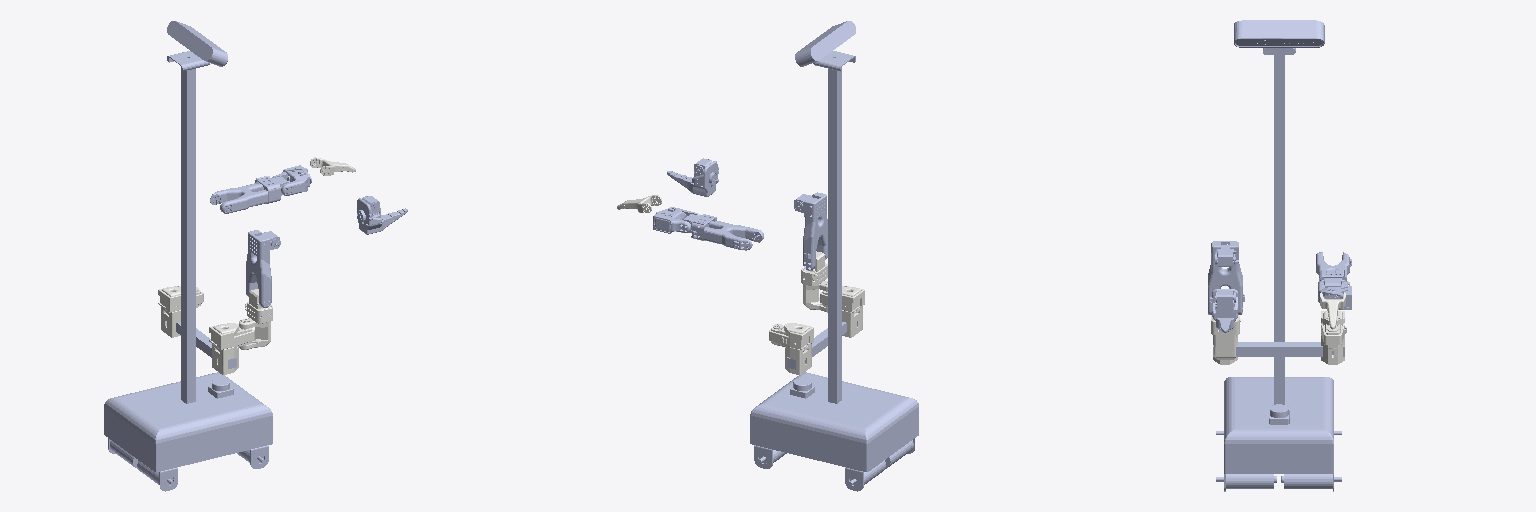
--- What the picture shows (computed from the rendered views, not written in the file) ---
3 views of the same robot in one strip: view 1: azimuth 30°, elevation 25°; view 2: azimuth 150°, elevation 25°; view 3: azimuth 270°, elevation 25° (orthographic).
Model hsr1_description with 25 links and 24 joints (12 revolute, 4 continuous, 1 prismatic, 7 fixed), rooted at base_footprint, posed all joints at 0.
Links seen in each view (by area): view 1: base_link, right_arm_upper, camera_link, left_arm_lower, right_arm_base, right_arm_shoulder, right_arm_gripper, left_arm_base, left_arm_wrist; view 2: base_link, right_arm_upper, camera_link, left_arm_lower, left_arm_base, right_arm_base, right_arm_gripper, right_arm_shoulder, left_arm_wrist; view 3: base_link, camera_link, right_arm_upper, lift_link, left_arm_base, right_arm_gripper, left_arm_lower, right_arm_shoulder.
Link boxes in pixels (<box>): base_link: <box>104,69,272,491</box>; right_arm_upper: <box>246,230,280,307</box>; camera_link: <box>167,21,227,71</box>; left_arm_lower: <box>210,176,288,213</box>; right_arm_base: <box>209,323,254,374</box>; right_arm_shoulder: <box>239,289,272,349</box>; right_arm_gripper: <box>357,196,407,234</box>; left_arm_base: <box>158,286,203,337</box>; left_arm_wrist: <box>272,165,311,195</box>; base_link: <box>750,69,918,491</box>; right_arm_upper: <box>794,192,827,270</box>; camera_link: <box>795,21,855,71</box>; left_arm_lower: <box>683,214,763,250</box>; left_arm_base: <box>769,323,813,374</box>; right_arm_base: <box>820,286,864,337</box>; right_arm_gripper: <box>667,158,718,196</box>; right_arm_shoulder: <box>801,251,827,312</box>; left_arm_wrist: <box>653,207,700,233</box>; base_link: <box>1216,55,1341,491</box>; camera_link: <box>1234,20,1324,54</box>; right_arm_upper: <box>1208,241,1244,314</box>; lift_link: <box>1213,342,1344,356</box>; left_arm_base: <box>1321,311,1346,364</box>; right_arm_gripper: <box>1210,289,1237,332</box>; left_arm_lower: <box>1316,252,1351,288</box>; right_arm_shoulder: <box>1211,315,1240,359</box>.
Bounding box of the posed robot: 0.5572 × 0.2623 × 0.8967 m (x, y, z).
Meshes: 22 distinct files referenced, 12 mesh visuals loaded (12 binary STL); not drawn: 10 (reference not matched to a file when rendering).

The robot description file, URDF, robot "hsr1_description":
<?xml version="1.0" encoding="utf-8" ?>
<!-- This URDF was automatically created by SolidWorks to URDF Exporter! Originally created by Stephen Brawner ([email redacted]) 
     Commit Version: 1.6.0-4-g7f85cfe  Build Version: 1.6.7995.38578
     For more information, please see http://wiki.ros.org/sw_urdf_exporter -->
<robot name="hsr1_description">
    <link name="base_footprint" />
    <joint name="base_footprint_joint" type="fixed">
        <origin xyz="0 0 0.07" rpy="0 0 0" />
        <parent link="base_footprint" />
        <child link="base_link" />
    </joint>
    <link name="base_link">
        <inertial>
            <origin xyz="-2.77555756156289E-17 -5.55111512312578E-17 0.056835338512976" rpy="0 0 0" />
            <mass value="4.80714032791377" />
            <inertia ixx="0.0315403305634354" ixy="-4.69442092614301E-10" ixz="1.62478147637776E-18" iyy="0.0406916810158976" iyz="1.77867391243081E-18" izz="0.0365902052108465" />
        </inertial>
        <visual>
            <origin xyz="0 0 0" rpy="0 0 0" />
            <geometry>
                <mesh filename="package://hsr1_description/meshes/base_link.STL" />
            </geometry>
            <material name="">
                <color rgba="0.792156862745098 0.819607843137255 0.933333333333333 1" />
            </material>
        </visual>
        <collision>
            <origin xyz="0 0 0" rpy="0 0 0" />
            <geometry>
                <mesh filename="package://hsr1_description/meshes/base_link.STL" />
            </geometry>
        </collision>
    </link>
    <link name="front_left_wheel">
        <inertial>
            <origin xyz="-0.0763418944822859 0.128269969958949 0.143889225615351" rpy="0 0 0" />
            <mass value="5.89180566156079" />
            <inertia ixx="0.150804791351794" ixy="-0.0384666411475966" ixz="0.00969175864752925" iyy="0.0786720632513838" iyz="0.0157573818855328" izz="0.180861396100893" />
        </inertial>
        <visual>
            <origin xyz="0 0 0" rpy="0 0 0" />
            <geometry>
                <mesh filename="package://hsr1_description/meshes/front_left_wheel.STL" />
            </geometry>
            <material name="">
                <color rgba="0.792156862745098 0.819607843137255 0.933333333333333 1" />
            </material>
        </visual>
        <collision>
            <origin xyz="0 0 0" rpy="0 0 0" />
            <geometry>
                <mesh filename="package://hsr1_description/meshes/front_left_wheel.STL" />
            </geometry>
        </collision>
    </link>
    <joint name="front_left_wheel_joint" type="continuous">
        <origin xyz="0.0999999999999999 0.152710797871441 -0.0245" rpy="1.5707963267949 0 0" />
        <parent link="base_link" />
        <child link="front_left_wheel" />
        <axis xyz="0 0 1" />
    </joint>
    <link name="front_right_wheel">
        <inertial>
            <origin xyz="0.0495086361339399 0.14081961864233 0.108146393398426" rpy="0 0 0" />
            <mass value="5.89180566156079" />
            <inertia ixx="0.133098775842571" ixy="0.0494303823415677" ixz="0.0126125790573082" iyy="0.0963780787606072" iyz="-0.01353322279029" izz="0.180861396100893" />
        </inertial>
        <visual>
            <origin xyz="0 0 0" rpy="0 0 0" />
            <geometry>
                <mesh filename="package://hsr1_description/meshes/front_right_wheel.STL" />
            </geometry>
            <material name="">
                <color rgba="0.792156862745098 0.819607843137255 0.933333333333333 1" />
            </material>
        </visual>
        <collision>
            <origin xyz="0 0 0" rpy="0 0 0" />
            <geometry>
                <mesh filename="package://hsr1_description/meshes/front_right_wheel.STL" />
            </geometry>
        </collision>
    </link>
    <joint name="front_right_wheel_joint" type="continuous">
        <origin xyz="0.1 -0.0993248211423353 -0.0244999999999999" rpy="1.5707963267949 0.198780218489868 -3.14159265358979" />
        <parent link="base_link" />
        <child link="front_right_wheel" />
        <axis xyz="0 0 1" />
    </joint>
    <link name="rear_left_wheel">
        <inertial>
            <origin xyz="0.123658105517714 0.128269969958949 0.143889225615353" rpy="0 0 0" />
            <mass value="5.89180566156079" />
            <inertia ixx="0.150804791351794" ixy="-0.0384666411475966" ixz="0.00969175864752925" iyy="0.0786720632513838" iyz="0.0157573818855328" izz="0.180861396100893" />
        </inertial>
        <visual>
            <origin xyz="0 0 0" rpy="0 0 0" />
            <geometry>
                <mesh filename="package://hsr1_description/meshes/rear_left_wheel.STL" />
            </geometry>
            <material name="">
                <color rgba="0.792156862745098 0.819607843137255 0.933333333333333 1" />
            </material>
        </visual>
        <collision>
            <origin xyz="0 0 0" rpy="0 0 0" />
            <geometry>
                <mesh filename="package://hsr1_description/meshes/rear_left_wheel.STL" />
            </geometry>
        </collision>
    </link>
    <joint name="rear_left_wheel_joint" type="continuous">
        <origin xyz="-0.1 0.152710797871443 -0.0245" rpy="1.5707963267949 0 0" />
        <parent link="base_link" />
        <child link="rear_left_wheel" />
        <axis xyz="0 0 1" />
    </joint>
    <link name="rear_right_wheel">
        <inertial>
            <origin xyz="-0.116599820212038 0.13471820285329 0.108146393398426" rpy="0 0 0" />
            <mass value="5.89180566156079" />
            <inertia ixx="0.154717935398889" ixy="0.0343817397651401" ixz="0.00883259692590424" iyy="0.0747589192042888" iyz="-0.0162545532424912" izz="0.180861396100893" />
        </inertial>
        <visual>
            <origin xyz="0 0 0" rpy="0 0 0" />
            <geometry>
                <mesh filename="package://hsr1_description/meshes/rear_right_wheel.STL" />
            </geometry>
            <material name="">
                <color rgba="0.792156862745098 0.819607843137255 0.933333333333333 1" />
            </material>
        </visual>
        <collision>
            <origin xyz="0 0 0" rpy="0 0 0" />
            <geometry>
                <mesh filename="package://hsr1_description/meshes/rear_right_wheel.STL" />
            </geometry>
        </collision>
    </link>
    <joint name="rear_right_wheel_joint" type="continuous">
        <origin xyz="-0.1 -0.0993248211423355 -0.0245" rpy="1.5707963267949 -0.0536647045298634 3.14159265358979" />
        <parent link="base_link" />
        <child link="rear_right_wheel" />
        <axis xyz="0 0 1" />
    </joint>
    <link name="lift_link">
        <inertial>
            <origin xyz="-6.38378239159465E-16 0.12 -0.0469405574076666" rpy="0 0 0" />
            <mass value="0.0959999999999999" />
            <inertia ixx="0.000464" ixy="-1.45598033401142E-20" ixz="-1.58779739552214E-23" iyy="6.39999999999998E-06" iyz="5.01185043746506E-20" izz="0.000464" />
        </inertial>
        <visual>
            <origin xyz="0 0 0" rpy="0 0 0" />
            <geometry>
                <mesh filename="package://hsr1_description/meshes/lift_link.STL" />
            </geometry>
            <material name="">
                <color rgba="0.792156862745098 0.819607843137255 0.933333333333333 1" />
            </material>
        </visual>
        <collision>
            <origin xyz="0 0 0" rpy="0 0 0" />
            <geometry>
                <mesh filename="package://hsr1_description/meshes/lift_link.STL" />
            </geometry>
        </collision>
    </link>
    <joint name="lift_joint" type="prismatic">
        <origin xyz="0.0270000000000006 0.12 0.154287208125814" rpy="3.14159265358979 0 0" />
        <parent link="base_link" />
        <child link="lift_link" />
        <axis xyz="0 0 -1" />
        <limit lower="0" upper="0.6" effort="0" velocity="0" />
    </joint>
    <link name="left_arm_base">
        <inertial>
            <origin xyz="-8.54066416982185E-05 0.0715841884981663 0.0115769886650849" rpy="0 0 0" />
            <mass value="0.140242935548136" />
            <inertia ixx="9.65161924913219E-05" ixy="-6.86201774765616E-09" ixz="-4.87380639258575E-07" iyy="5.45414092945246E-05" iyz="1.41448489167764E-06" izz="8.35072089564167E-05" />
        </inertial>
        <visual>
            <origin xyz="0 0 0" rpy="0 0 0" />
            <geometry>
                <mesh filename="package://hsr1_description/meshes/left_arm_base.STL" />
            </geometry>
            <material name="">
                <color rgba="0.964705882352941 0.964705882352941 0.952941176470588 1" />
            </material>
        </visual>
        <collision>
            <origin xyz="0 0 0" rpy="0 0 0" />
            <geometry>
                <mesh filename="package://hsr1_description/meshes/left_arm_base.STL" />
            </geometry>
        </collision>
    </link>
    <joint name="left_arm_base_joint" type="fixed">
        <origin xyz="-0.0040000003016688 0.0223499999999999 -0.00582771867673026" rpy="-1.5707963267949 0 -1.5707963267949" />
        <parent link="lift_link" />
        <child link="left_arm_base" />
        <axis xyz="0 0 0" />
    </joint>
    <link name="left_arm_shoulder">
        <inertial>
            <origin xyz="-0.0311428628881936 0.0943722843591647 -0.000118756610408152" rpy="0 0 0" />
            <mass value="0.118342144673412" />
            <inertia ixx="5.86116367758341E-05" ixy="4.52820436169518E-06" ixz="8.60811609895746E-08" iyy="3.27316890431936E-05" iyz="4.41365410166405E-07" izz="5.9991548930304E-05" />
        </inertial>
        <visual>
            <origin xyz="0 0 0" rpy="0 0 0" />
            <geometry>
                <mesh filename="package://hsr1_description/meshes/left_arm_shoulder.STL" />
            </geometry>
            <material name="">
                <color rgba="0.96078431372549 0.96078431372549 0.949019607843137 1" />
            </material>
        </visual>
        <collision>
            <origin xyz="0 0 0" rpy="0 0 0" />
            <geometry>
                <mesh filename="package://hsr1_description/meshes/left_arm_shoulder.STL" />
            </geometry>
        </collision>
    </link>
    <joint name="left_arm_shoulder_pan_joint" type="revolute">
        <origin xyz="-9.94324697954074E-05 0.0183865872581351 0.0452" rpy="0 1.5707963267949 0" />
        <parent link="left_arm_base" />
        <child link="left_arm_shoulder" />
        <axis xyz="0 -1 0" />
        <limit effort="10" velocity="10" lower="-1.91986" upper="1.91986" />
    </joint>
    <link name="left_arm_upper">
        <inertial>
            <origin xyz="-0.072820375688613 0.00327436850237797 9.02917389869057E-05" rpy="0 0 0" />
            <mass value="0.153633922340367" />
            <inertia ixx="6.05952240374413E-05" ixy="-2.03948109372219E-06" ixz="1.3959090198661E-06" iyy="0.000189441561481002" iyz="-1.38475568180751E-07" izz="0.000151918054940066" />
        </inertial>
        <visual>
            <origin xyz="0 0 0" rpy="0 0 0" />
            <geometry>
                <mesh filename="package://hsr1_description/meshes/left_arm_upper.STL" />
            </geometry>
            <material name="">
                <color rgba="0.792156862745098 0.819607843137255 0.933333333333333 1" />
            </material>
        </visual>
        <collision>
            <origin xyz="0 0 0" rpy="0 0 0" />
            <geometry>
                <mesh filename="package://hsr1_description/meshes/left_arm_upper.STL" />
            </geometry>
        </collision>
    </link>
    <joint name="left_arm_shoulder_lift_joint" type="revolute">
        <origin xyz="-0.0305999999999993 0.137553970149532 0" rpy="3.14159265358979 0 -1.5707963267949" />
        <parent link="left_arm_shoulder" />
        <child link="left_arm_upper" />
        <axis xyz="0 0 -1" />
        <limit effort="10" velocity="10" lower="-1.74533" upper="1.74533" />
    </joint>
    <link name="left_arm_lower">
        <inertial>
            <origin xyz="-0.0775717508252431 -0.00151948353551978 0.000224904297332795" rpy="0 0 0" />
            <mass value="0.143061616925613" />
            <inertia ixx="4.97464782533773E-05" ixy="1.659850779996E-06" ixz="-8.74035972062829E-07" iyy="0.000134185687259806" iyz="6.17096511960786E-08" izz="0.000101486930989823" />
        </inertial>
        <visual>
            <origin xyz="0 0 0" rpy="0 0 0" />
            <geometry>
                <mesh filename="package://hsr1_description/meshes/left_arm_lower.STL" />
            </geometry>
            <material name="">
                <color rgba="0.792156862745098 0.819607843137255 0.933333333333333 1" />
            </material>
        </visual>
        <collision>
            <origin xyz="0 0 0" rpy="0 0 0" />
            <geometry>
                <mesh filename="package://hsr1_description/meshes/left_arm_lower.STL" />
            </geometry>
        </collision>
    </link>
    <joint name="left_arm_elbow_flex" type="revolute">
        <origin xyz="-0.112569978235762 0.028 0" rpy="0 0 -1.5707963267949" />
        <parent link="left_arm_upper" />
        <child link="left_arm_lower" />
        <axis xyz="0 0 -1" />
        <limit effort="10" velocity="10" lower="-1.69" upper="1.69" />
    </joint>
    <link name="left_arm_wrist">
        <inertial>
            <origin xyz="0.0074988521546846 -0.000183225910744489 -0.0352441141941843" rpy="0 0 0" />
            <mass value="0.0685298669041996" />
            <inertia ixx="1.92887930352228E-05" ixy="2.23104915146363E-08" ixz="1.82793956115037E-06" iyy="3.44200859821344E-05" iyz="-1.17241721405776E-07" izz="2.46010655928815E-05" />
        </inertial>
        <visual>
            <origin xyz="0 0 0" rpy="0 0 0" />
            <geometry>
                <mesh filename="package://hsr1_description/meshes/left_arm_wrist.STL" />
            </geometry>
            <material name="">
                <color rgba="0.792156862745098 0.819607843137255 0.933333333333333 1" />
            </material>
        </visual>
        <collision>
            <origin xyz="0 0 0" rpy="0 0 0" />
            <geometry>
                <mesh filename="package://hsr1_description/meshes/left_arm_wrist.STL" />
            </geometry>
        </collision>
    </link>
    <joint name="left_arm_wrist_flex_joint" type="revolute">
        <origin xyz="-0.134899814673215 -0.0052000000000002 0" rpy="0 1.5707963267949 0" />
        <parent link="left_arm_lower" />
        <child link="left_arm_wrist" />
        <axis xyz="1 0 0" />
        <limit effort="10" velocity="10" lower="-1.65806" upper="1.65806" />
    </joint>
    <link name="left_arm_gripper">
        <inertial>
            <origin xyz="-0.00574918834621374 -0.000299389140201681 0.027671954785312" rpy="0 0 0" />
            <mass value="0.0928490160187007" />
            <inertia ixx="4.18673267658473E-05" ixy="5.4775731750841E-07" ixz="6.83698320543349E-06" iyy="4.93788979380327E-05" iyz="-1.11017245774733E-07" izz="2.99247079521115E-05" />
        </inertial>
        <visual>
            <origin xyz="0 0 0" rpy="0 0 0" />
            <geometry>
                <mesh filename="package://hsr1_description/meshes/left_arm_gripper.STL" />
            </geometry>
            <material name="">
                <color rgba="0.792156862745098 0.819607843137255 0.933333333333333 1" />
            </material>
        </visual>
        <collision>
            <origin xyz="0 0 0" rpy="0 0 0" />
            <geometry>
                <mesh filename="package://hsr1_description/meshes/left_arm_gripper.STL" />
            </geometry>
        </collision>
    </link>
    <joint name="left_arm_wrist_roll_joint" type="revolute">
        <origin xyz="-9.99999999999474E-05 0 -0.0600979251128483" rpy="3.14159265358979 0 -1.5707963267949" />
        <parent link="left_arm_wrist" />
        <child link="left_arm_gripper" />
        <axis xyz="0 0 1" />
        <limit effort="10" velocity="10" lower="-2.74385" upper="2.84121" />
    </joint>
    <link name="left_arm_jaw">
        <inertial>
            <origin xyz="-0.00157480295581724 -0.0300227945242281 0.000375469899206643" rpy="0 0 0" />
            <mass value="0.0206927796108342" />
            <inertia ixx="1.14044815211905E-05" ixy="-5.51394017032959E-07" ixz="-1.0182657572208E-08" iyy="3.25976810899821E-06" iyz="-1.89598176821901E-07" izz="9.11629025269044E-06" />
        </inertial>
        <visual>
            <origin xyz="0 0 0" rpy="0 0 0" />
            <geometry>
                <mesh filename="package://hsr1_description/meshes/left_arm_jaw.STL" />
            </geometry>
            <material name="">
                <color rgba="0.96078431372549 0.96078431372549 0.949019607843137 1" />
            </material>
        </visual>
        <collision>
            <origin xyz="0 0 0" rpy="0 0 0" />
            <geometry>
                <mesh filename="package://hsr1_description/meshes/left_arm_jaw.STL" />
            </geometry>
        </collision>
    </link>
    <joint name="left_arm_gripper_joint" type="revolute">
        <origin xyz="0.0202000000000001 0 0.0244020721438898" rpy="-1.5707963267949 -0.19762080094728 0" />
        <parent link="left_arm_gripper" />
        <child link="left_arm_jaw" />
        <axis xyz="0 0 1" />
        <limit effort="10" velocity="10" lower="-0.174533" upper="1.74533" />
    </joint>
    <link name="left_arm_grasp_link" />
    <joint name="left_arm_grasp_joint" type="fixed">
        <origin xyz="0 0 0.07" rpy="0 0 0" />
        <parent link="left_arm_gripper" />
        <child link="left_arm_grasp_link" />
    </joint>
    <link name="right_arm_base">
        <inertial>
            <origin xyz="-4.2039885334022E-07 0.0715841885024884 0.0115769885943034" rpy="0 0 0" />
            <mass value="0.140242935943357" />
            <inertia ixx="9.65161926277387E-05" ixy="-6.86206769110721E-09" ixz="-4.87380557031348E-07" iyy="5.45414094586823E-05" iyz="1.41448495976878E-06" izz="8.35072090539803E-05" />
        </inertial>
        <visual>
            <origin xyz="0 0 0" rpy="0 0 0" />
            <geometry>
                <mesh filename="package://hsr1_description/meshes/right_arm_base.STL" />
            </geometry>
            <material name="">
                <color rgba="0.964705882352941 0.964705882352941 0.952941176470588 1" />
            </material>
        </visual>
        <collision>
            <origin xyz="0 0 0" rpy="0 0 0" />
            <geometry>
                <mesh filename="package://hsr1_description/meshes/right_arm_base.STL" />
            </geometry>
        </collision>
    </link>
    <joint name="right_arm_base_joint" type="fixed">
        <origin xyz="-0.0040000003016688 0.21765 -0.00582771867673032" rpy="-1.5707963267949 0 -1.5707963267949" />
        <parent link="lift_link" />
        <child link="right_arm_base" />
        <axis xyz="0 0 0" />
    </joint>
    <link name="right_arm_shoulder">
        <inertial>
            <origin xyz="-0.0311428628881936 0.0943722843591647 -0.000118756610408152" rpy="0 0 0" />
            <mass value="0.118342144673412" />
            <inertia ixx="5.86116367758341E-05" ixy="4.52820436169518E-06" ixz="8.60811609895746E-08" iyy="3.27316890431936E-05" iyz="4.41365410166405E-07" izz="5.9991548930304E-05" />
        </inertial>
        <visual>
            <origin xyz="0 0 0" rpy="0 0 0" />
            <geometry>
                <mesh filename="package://hsr1_description/meshes/right_arm_shoulder.STL" />
            </geometry>
            <material name="">
                <color rgba="0.96078431372549 0.96078431372549 0.949019607843137 1" />
            </material>
        </visual>
        <collision>
            <origin xyz="0 0 0" rpy="0 0 0" />
            <geometry>
                <mesh filename="package://hsr1_description/meshes/right_arm_shoulder.STL" />
            </geometry>
        </collision>
    </link>
    <joint name="right_arm_shoulder_pan_joint" type="revolute">
        <origin xyz="-9.94324697954074E-05 0.0183865872581351 0.0452" rpy="0 1.5707963267949 0" />
        <parent link="right_arm_base" />
        <child link="right_arm_shoulder" />
        <axis xyz="0 -1 0" />
        <limit effort="10" velocity="10" lower="-1.91986" upper="1.91986" />
    </joint>
    <link name="right_arm_upper">
        <inertial>
            <origin xyz="-0.072820375688613 0.00327436850237797 9.02917389869057E-05" rpy="0 0 0" />
            <mass value="0.153633922340367" />
            <inertia ixx="6.05952240374413E-05" ixy="-2.03948109372219E-06" ixz="1.3959090198661E-06" iyy="0.000189441561481002" iyz="-1.38475568180751E-07" izz="0.000151918054940066" />
        </inertial>
        <visual>
            <origin xyz="0 0 0" rpy="0 0 0" />
            <geometry>
                <mesh filename="package://hsr1_description/meshes/right_arm_upper.STL" />
            </geometry>
            <material name="">
                <color rgba="0.792156862745098 0.819607843137255 0.933333333333333 1" />
            </material>
        </visual>
        <collision>
            <origin xyz="0 0 0" rpy="0 0 0" />
            <geometry>
                <mesh filename="package://hsr1_description/meshes/right_arm_upper.STL" />
            </geometry>
        </collision>
    </link>
    <joint name="right_arm_shoulder_lift_joint" type="revolute">
        <origin xyz="-0.0305999999999993 0.137553970149532 0" rpy="3.14159265358979 0 -1.5707963267949" />
        <parent link="right_arm_shoulder" />
        <child link="right_arm_upper" />
        <axis xyz="0 0 -1" />
        <limit effort="10" velocity="10" lower="-1.74533" upper="1.74533" />
    </joint>
    <link name="right_arm_lower">
        <inertial>
            <origin xyz="-0.0775717508252431 -0.00151948353551978 0.000224904297332795" rpy="0 0 0" />
            <mass value="0.143061616925613" />
            <inertia ixx="4.97464782533773E-05" ixy="1.659850779996E-06" ixz="-8.74035972062829E-07" iyy="0.000134185687259806" iyz="6.17096511960786E-08" izz="0.000101486930989823" />
        </inertial>
        <visual>
            <origin xyz="0 0 0" rpy="0 0 0" />
            <geometry>
                <mesh filename="package://hsr1_description/meshes/right_arm_lower.STL" />
            </geometry>
            <material name="">
                <color rgba="0.792156862745098 0.819607843137255 0.933333333333333 1" />
            </material>
        </visual>
        <collision>
            <origin xyz="0 0 0" rpy="0 0 0" />
            <geometry>
                <mesh filename="package://hsr1_description/meshes/right_arm_lower.STL" />
            </geometry>
        </collision>
    </link>
    <joint name="right_arm_elbow_flex" type="revolute">
        <origin xyz="-0.112569978235762 0.028 0" rpy="0 0 -1.5707963267949" />
        <parent link="right_arm_upper" />
        <child link="right_arm_lower" />
        <axis xyz="0 0 -1" />
        <limit effort="10" velocity="10" lower="-1.69" upper="1.69" />
    </joint>
    <link name="right_arm_wrist">
        <inertial>
            <origin xyz="0.0074988521546846 -0.000183225910744489 -0.0352441141941843" rpy="0 0 0" />
            <mass value="0.0685298669041996" />
            <inertia ixx="1.92887930352228E-05" ixy="2.23104915146363E-08" ixz="1.82793956115037E-06" iyy="3.44200859821344E-05" iyz="-1.17241721405776E-07" izz="2.46010655928815E-05" />
        </inertial>
        <visual>
            <origin xyz="0 0 0" rpy="0 0 0" />
            <geometry>
                <mesh filename="package://hsr1_description/meshes/right_arm_wrist.STL" />
            </geometry>
            <material name="">
                <color rgba="0.792156862745098 0.819607843137255 0.933333333333333 1" />
            </material>
        </visual>
        <collision>
            <origin xyz="0 0 0" rpy="0 0 0" />
            <geometry>
                <mesh filename="package://hsr1_description/meshes/right_arm_wrist.STL" />
            </geometry>
        </collision>
    </link>
    <joint name="right_arm_wrist_flex_joint" type="revolute">
        <origin xyz="-0.134899814673215 -0.0052000000000002 0" rpy="0 1.5707963267949 0" />
        <parent link="right_arm_lower" />
        <child link="right_arm_wrist" />
        <axis xyz="1 0 0" />
        <limit effort="10" velocity="10" lower="-1.65806" upper="1.65806" />
    </joint>
    <link name="right_arm_gripper">
        <inertial>
            <origin xyz="-0.00574918834621374 -0.000299389140201681 0.027671954785312" rpy="0 0 0" />
            <mass value="0.0928490160187007" />
            <inertia ixx="4.18673267658473E-05" ixy="5.4775731750841E-07" ixz="6.83698320543349E-06" iyy="4.93788979380327E-05" iyz="-1.11017245774733E-07" izz="2.99247079521115E-05" />
        </inertial>
        <visual>
            <origin xyz="0 0 0" rpy="0 0 0" />
            <geometry>
                <mesh filename="package://hsr1_description/meshes/right_arm_gripper.STL" />
            </geometry>
            <material name="">
                <color rgba="0.792156862745098 0.819607843137255 0.933333333333333 1" />
            </material>
        </visual>
        <collision>
            <origin xyz="0 0 0" rpy="0 0 0" />
            <geometry>
                <mesh filename="package://hsr1_description/meshes/right_arm_gripper.STL" />
            </geometry>
        </collision>
    </link>
    <joint name="right_arm_wrist_roll_joint" type="revolute">
        <origin xyz="-9.99999999999474E-05 0 -0.0600979251128483" rpy="3.14159265358979 0 -1.5707963267949" />
        <parent link="right_arm_wrist" />
        <child link="right_arm_gripper" />
        <axis xyz="0 0 1" />
        <limit effort="10" velocity="10" lower="-2.74385" upper="2.84121" />
    </joint>
    <link name="right_arm_jaw">
        <inertial>
            <origin xyz="-0.00157480295581724 -0.0300227945242281 0.000375469899206643" rpy="0 0 0" />
            <mass value="0.0206927796108342" />
            <inertia ixx="1.14044815211905E-05" ixy="-5.51394017032959E-07" ixz="-1.0182657572208E-08" iyy="3.25976810899821E-06" iyz="-1.89598176821901E-07" izz="9.11629025269044E-06" />
        </inertial>
        <visual>
            <origin xyz="0 0 0" rpy="0 0 0" />
            <geometry>
                <mesh filename="package://hsr1_description/meshes/right_arm_jaw.STL" />
            </geometry>
            <material name="">
                <color rgba="0.96078431372549 0.96078431372549 0.949019607843137 1" />
            </material>
        </visual>
        <collision>
            <origin xyz="0 0 0" rpy="0 0 0" />
            <geometry>
                <mesh filename="package://hsr1_description/meshes/right_arm_jaw.STL" />
            </geometry>
        </collision>
    </link>
    <joint name="right_arm_gripper_joint" type="revolute">
        <origin xyz="0.0202000000000001 0 0.0244020721438898" rpy="-1.5707963267949 -0.19762080094728 0" />
        <parent link="right_arm_gripper" />
        <child link="right_arm_jaw" />
        <axis xyz="0 0 1" />
        <limit effort="10" velocity="10" lower="-0.174533" upper="1.74533" />
    </joint>
    <link name="right_arm_grasp_link" />
    <joint name="right_arm_grasp_joint" type="fixed">
        <origin xyz="0 0 0.07" rpy="0 0 0" />
        <parent link="right_arm_gripper" />
        <child link="right_arm_grasp_link" />
    </joint>
    <link name="laser">
        <inertial>
            <origin xyz="0 0.0156240942938574 2.77555756156289E-17" rpy="0 0 0" />
            <mass value="0.0422588090333662" />
            <inertia ixx="8.24028742113334E-06" ixy="-1.71120138479382E-22" ixz="-6.24424427249502E-22" iyy="8.88685502810459E-06" iyz="-2.40831518602032E-21" izz="8.24028742113333E-06" />
        </inertial>
        <visual>
            <origin xyz="0 0 0" rpy="1.5708 0 0" />
            <geometry>
                <mesh filename="package://hsr1_description/meshes/laser.STL" />
            </geometry>
            <material name="">
                <color rgba="0.792156862745098 0.819607843137255 0.933333333333333 1" />
            </material>
        </visual>
        <collision>
            <origin xyz="0 0 0" rpy="0 0 0" />
            <geometry>
                <mesh filename="package://hsr1_description/meshes/laser.STL" />
            </geometry>
        </collision>
    </link>
    <joint name="laser_joint" type="fixed">
        <origin xyz="0.07125 0 0.0705" rpy="0 0 0" />
        <parent link="base_link" />
        <child link="laser" />
        <axis xyz="0 0 0" />
    </joint>
    <link name="camera_link">
        <inertial>
            <origin xyz="0.0299675474370011 -0.0527778406133297 -0.0267297616725352" rpy="0 0 0" />
            <mass value="0.200307475787006" />
            <inertia ixx="4.24154061321762E-05" ixy="-1.79883285126113E-08" ixz="-3.0906371541433E-08" iyy="0.00041894869760019" iyz="-4.02103556222728E-06" izz="0.00040851429467693" />
        </inertial>
        <visual>
            <origin xyz="0 0 0" rpy="0 0 0" />
            <geometry>
                <mesh filename="package://hsr1_description/meshes/camera_link.STL" />
            </geometry>
            <material name="">
                <color rgba="0.792156862745098 0.819607843137255 0.933333333333333 1" />
            </material>
        </visual>
        <collision>
            <origin xyz="0 0 0" rpy="0 0 0" />
            <geometry>
                <mesh filename="package://hsr1_description/meshes/camera_link.STL" />
            </geometry>
        </collision>
    </link>
    <joint name="camera_joint" type="fixed">
        <origin xyz="0.0451664150428182 0.0299578127465588 0.773753639372473" rpy="-1.5707963267949 0 -1.5707963267949" />
        <parent link="base_link" />
        <child link="camera_link" />
        <axis xyz="0 0 0" />
    </joint>
    <transmission name="trans_front_left_wheel_joint">
        <type>transmission_interface/SimpleTransmission</type>
        <joint name="front_left_wheel_joint">
            <hardwareInterface>hardware_interface/EffortJointInterface</hardwareInterface>
        </joint>
        <actuator name="front_left_wheel_joint_motor">
            <hardwareInterface>hardware_interface/EffortJointInterface</hardwareInterface>
            <mechanicalReduction>1</mechanicalReduction>
        </actuator>
    </transmission>
    <transmission name="trans_front_right_wheel_joint">
        <type>transmission_interface/SimpleTransmission</type>
        <joint name="front_right_wheel_joint">
            <hardwareInterface>hardware_interface/EffortJointInterface</hardwareInterface>
        </joint>
        <actuator name="front_right_wheel_joint_motor">
            <hardwareInterface>hardware_interface/EffortJointInterface</hardwareInterface>
            <mechanicalReduction>1</mechanicalReduction>
        </actuator>
    </transmission>
    <transmission name="trans_rear_left_wheel_joint">
        <type>transmission_interface/SimpleTransmission</type>
        <joint name="rear_left_wheel_joint">
            <hardwareInterface>hardware_interface/EffortJointInterface</hardwareInterface>
        </joint>
        <actuator name="rear_left_wheel_joint_motor">
            <hardwareInterface>hardware_interface/EffortJointInterface</hardwareInterface>
            <mechanicalReduction>1</mechanicalReduction>
        </actuator>
    </transmission>
    <transmission name="trans_rear_right_wheel_joint">
        <type>transmission_interface/SimpleTransmission</type>
        <joint name="rear_right_wheel_joint">
            <hardwareInterface>hardware_interface/EffortJointInterface</hardwareInterface>
        </joint>
        <actuator name="rear_right_wheel_joint_motor">
            <hardwareInterface>hardware_interface/EffortJointInterface</hardwareInterface>
            <mechanicalReduction>1</mechanicalReduction>
        </actuator>
    </transmission>
    <transmission name="trans_lift_joint">
        <type>transmission_interface/SimpleTransmission</type>
        <joint name="lift_joint">
            <hardwareInterface>hardware_interface/EffortJointInterface</hardwareInterface>
        </joint>
        <actuator name="lift_joint_motor">
            <hardwareInterface>hardware_interface/EffortJointInterface</hardwareInterface>
            <mechanicalReduction>1</mechanicalReduction>
        </actuator>
    </transmission>
    <transmission name="trans_left_arm_shoulder_pan_joint">
        <type>transmission_interface/SimpleTransmission</type>
        <joint name="left_arm_shoulder_pan_joint">
            <hardwareInterface>hardware_interface/EffortJointInterface</hardwareInterface>
        </joint>
        <actuator name="left_arm_shoulder_pan_joint_motor">
            <hardwareInterface>hardware_interface/EffortJointInterface</hardwareInterface>
            <mechanicalReduction>1</mechanicalReduction>
        </actuator>
    </transmission>
    <transmission name="trans_left_arm_shoulder_lift_joint">
        <type>transmission_interface/SimpleTransmission</type>
        <joint name="left_arm_shoulder_lift_joint">
            <hardwareInterface>hardware_interface/EffortJointInterface</hardwareInterface>
        </joint>
        <actuator name="left_arm_shoulder_lift_joint_motor">
            <hardwareInterface>hardware_interface/EffortJointInterface</hardwareInterface>
            <mechanicalReduction>1</mechanicalReduction>
        </actuator>
    </transmission>
    <transmission name="trans_left_arm_elbow_flex">
        <type>transmission_interface/SimpleTransmission</type>
        <joint name="left_arm_elbow_flex">
            <hardwareInterface>hardware_interface/EffortJointInterface</hardwareInterface>
        </joint>
        <actuator name="left_arm_elbow_flex_motor">
            <hardwareInterface>hardware_interface/EffortJointInterface</hardwareInterface>
            <mechanicalReduction>1</mechanicalReduction>
        </actuator>
    </transmission>
    <transmission name="trans_left_arm_wrist_flex_joint">
        <type>transmission_interface/SimpleTransmission</type>
        <joint name="left_arm_wrist_flex_joint">
            <hardwareInterface>hardware_interface/EffortJointInterface</hardwareInterface>
        </joint>
        <actuator name="left_arm_wrist_flex_joint_motor">
            <hardwareInterface>hardware_interface/EffortJointInterface</hardwareInterface>
            <mechanicalReduction>1</mechanicalReduction>
        </actuator>
    </transmission>
    <transmission name="trans_left_arm_wrist_roll_joint">
        <type>transmission_interface/SimpleTransmission</type>
        <joint name="left_arm_wrist_roll_joint">
            <hardwareInterface>hardware_interface/EffortJointInterface</hardwareInterface>
        </joint>
        <actuator name="left_arm_wrist_roll_joint_motor">
            <hardwareInterface>hardware_interface/EffortJointInterface</hardwareInterface>
            <mechanicalReduction>1</mechanicalReduction>
        </actuator>
    </transmission>
    <transmission name="trans_left_arm_gripper_joint">
        <type>transmission_interface/SimpleTransmission</type>
        <joint name="left_arm_gripper_joint">
            <hardwareInterface>hardware_interface/EffortJointInterface</hardwareInterface>
        </joint>
        <actuator name="left_arm_gripper_joint_motor">
            <hardwareInterface>hardware_interface/EffortJointInterface</hardwareInterface>
            <mechanicalReduction>1</mechanicalReduction>
        </actuator>
    </transmission>
    <transmission name="trans_right_arm_shoulder_pan_joint">
        <type>transmission_interface/SimpleTransmission</type>
        <joint name="right_arm_shoulder_pan_joint">
            <hardwareInterface>hardware_interface/EffortJointInterface</hardwareInterface>
        </joint>
        <actuator name="right_arm_shoulder_pan_joint_motor">
            <hardwareInterface>hardware_interface/EffortJointInterface</hardwareInterface>
            <mechanicalReduction>1</mechanicalReduction>
        </actuator>
    </transmission>
    <transmission name="trans_right_arm_shoulder_lift_joint">
        <type>transmission_interface/SimpleTransmission</type>
        <joint name="right_arm_shoulder_lift_joint">
            <hardwareInterface>hardware_interface/EffortJointInterface</hardwareInterface>
        </joint>
        <actuator name="right_arm_shoulder_lift_joint_motor">
            <hardwareInterface>hardware_interface/EffortJointInterface</hardwareInterface>
            <mechanicalReduction>1</mechanicalReduction>
        </actuator>
    </transmission>
    <transmission name="trans_right_arm_elbow_flex">
        <type>transmission_interface/SimpleTransmission</type>
        <joint name="right_arm_elbow_flex">
            <hardwareInterface>hardware_interface/EffortJointInterface</hardwareInterface>
        </joint>
        <actuator name="right_arm_elbow_flex_motor">
            <hardwareInterface>hardware_interface/EffortJointInterface</hardwareInterface>
            <mechanicalReduction>1</mechanicalReduction>
        </actuator>
    </transmission>
    <transmission name="trans_right_arm_wrist_flex_joint">
        <type>transmission_interface/SimpleTransmission</type>
        <joint name="right_arm_wrist_flex_joint">
            <hardwareInterface>hardware_interface/EffortJointInterface</hardwareInterface>
        </joint>
        <actuator name="right_arm_wrist_flex_joint_motor">
            <hardwareInterface>hardware_interface/EffortJointInterface</hardwareInterface>
            <mechanicalReduction>1</mechanicalReduction>
        </actuator>
    </transmission>
    <transmission name="trans_right_arm_wrist_roll_joint">
        <type>transmission_interface/SimpleTransmission</type>
        <joint name="right_arm_wrist_roll_joint">
            <hardwareInterface>hardware_interface/EffortJointInterface</hardwareInterface>
        </joint>
        <actuator name="right_arm_wrist_roll_joint_motor">
            <hardwareInterface>hardware_interface/EffortJointInterface</hardwareInterface>
            <mechanicalReduction>1</mechanicalReduction>
        </actuator>
    </transmission>
    <transmission name="trans_right_arm_gripper_joint">
        <type>transmission_interface/SimpleTransmission</type>
        <joint name="right_arm_gripper_joint">
            <hardwareInterface>hardware_interface/EffortJointInterface</hardwareInterface>
        </joint>
        <actuator name="right_arm_gripper_joint_motor">
            <hardwareInterface>hardware_interface/EffortJointInterface</hardwareInterface>
            <mechanicalReduction>1</mechanicalReduction>
        </actuator>
    </transmission>
    <gazebo>
        <plugin name="gazebo_ros_control" filename="libgazebo_ros_control.so">
            <robotNamespace>/</robotNamespace>
        </plugin>
    </gazebo>
</robot>
